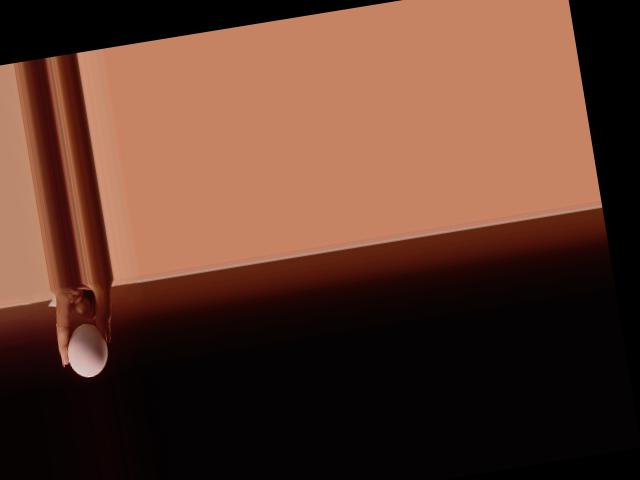egg: (63, 320, 112, 380)
